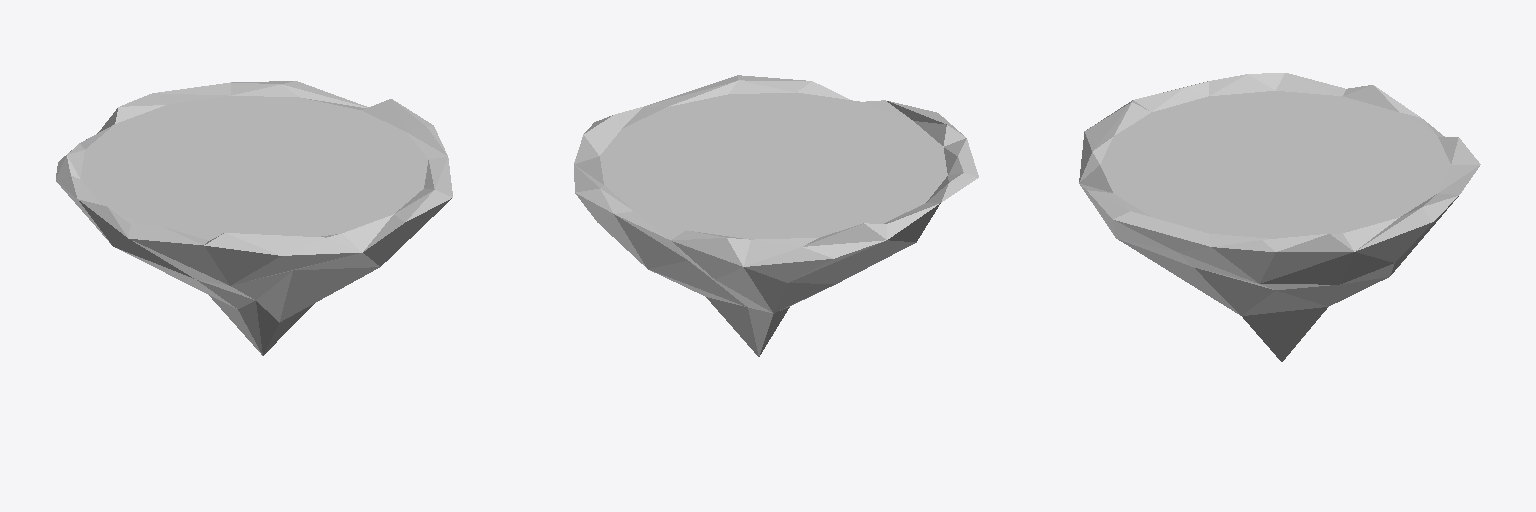
File: island.obj
3 renders of one model, left to right at view 1: azimuth 30°, elevation 25°; view 2: azimuth 150°, elevation 25°; view 3: azimuth 270°, elevation 25°, orthographic.
Visible parts, largest first — view 1: Cube; view 2: Cube; view 3: Cube.
Part boxes in pixels (bbox=[...]): Cube: bbox=[56, 81, 452, 355]; Cube: bbox=[574, 75, 978, 356]; Cube: bbox=[1079, 73, 1480, 361].
Bounding box in the file's own units: 19.58 × 10.96 × 19.41.